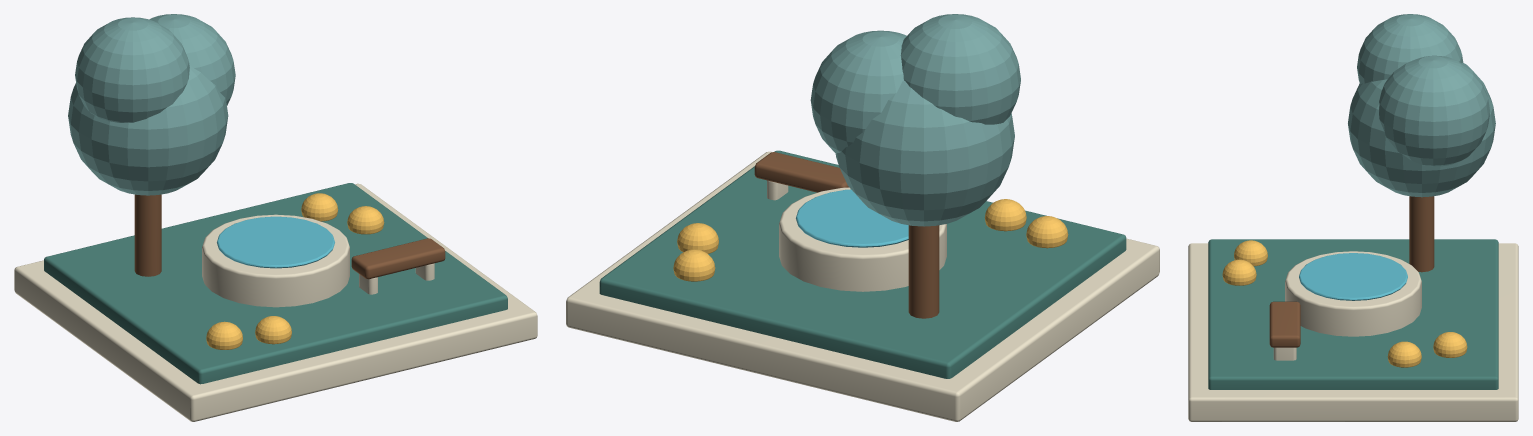
Rendered from SM_Garden_Fantasy.fbx.
3 views of the same model, side by side, from view 1: azimuth 30°, elevation 25°; view 2: azimuth 150°, elevation 25°; view 3: azimuth 270°, elevation 25° (orthographic). The views are drawn at different scales.
Visible parts, largest first — view 1: SM_Garden_Fantasy; view 2: SM_Garden_Fantasy; view 3: SM_Garden_Fantasy.
Boxes of the visible parts, left/top/right/bottom form: SM_Garden_Fantasy: left=14, top=14, right=537, bottom=421; SM_Garden_Fantasy: left=566, top=14, right=1159, bottom=421; SM_Garden_Fantasy: left=1188, top=14, right=1518, bottom=421.
Bounding box in the file's own units: 325 × 290 × 267.
